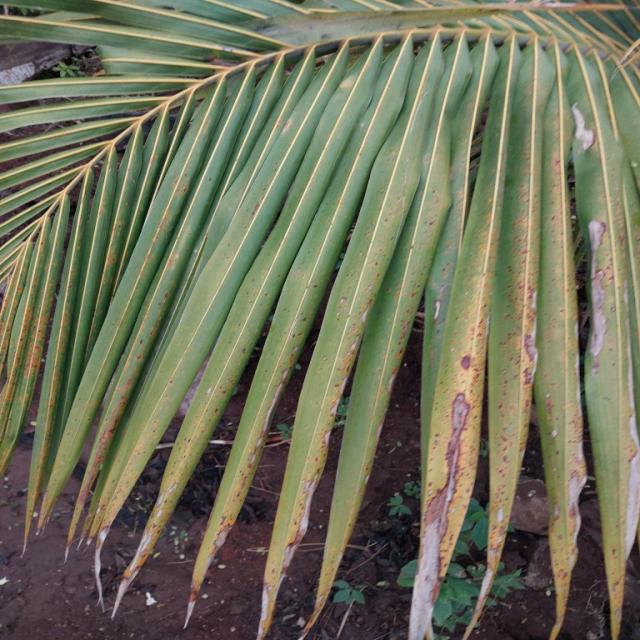gray leaf spot: (404, 68, 640, 640)
